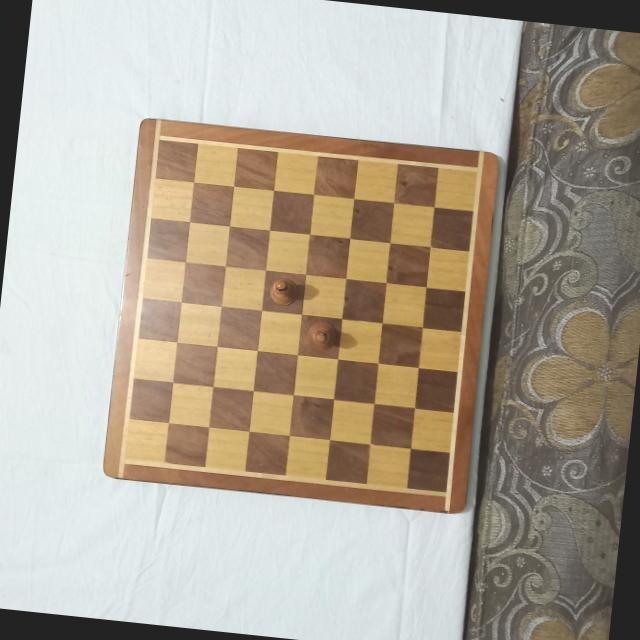white-bishop: (302, 318, 338, 352), (266, 276, 299, 308)
